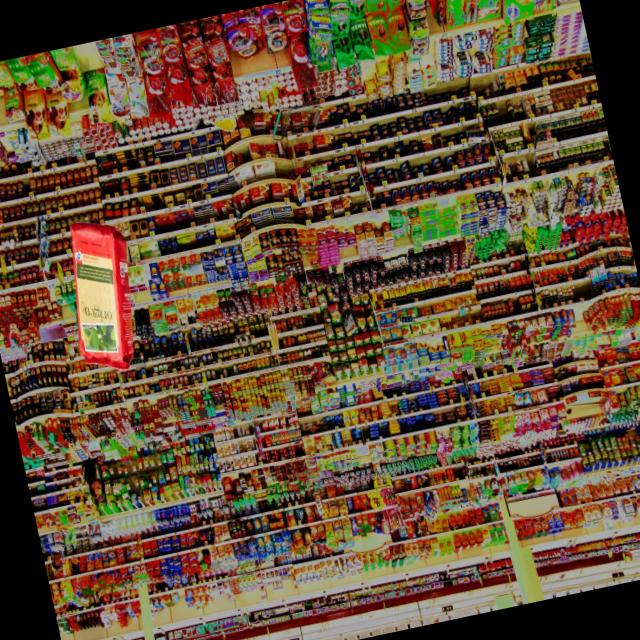mate bag: (54, 212, 152, 380)
